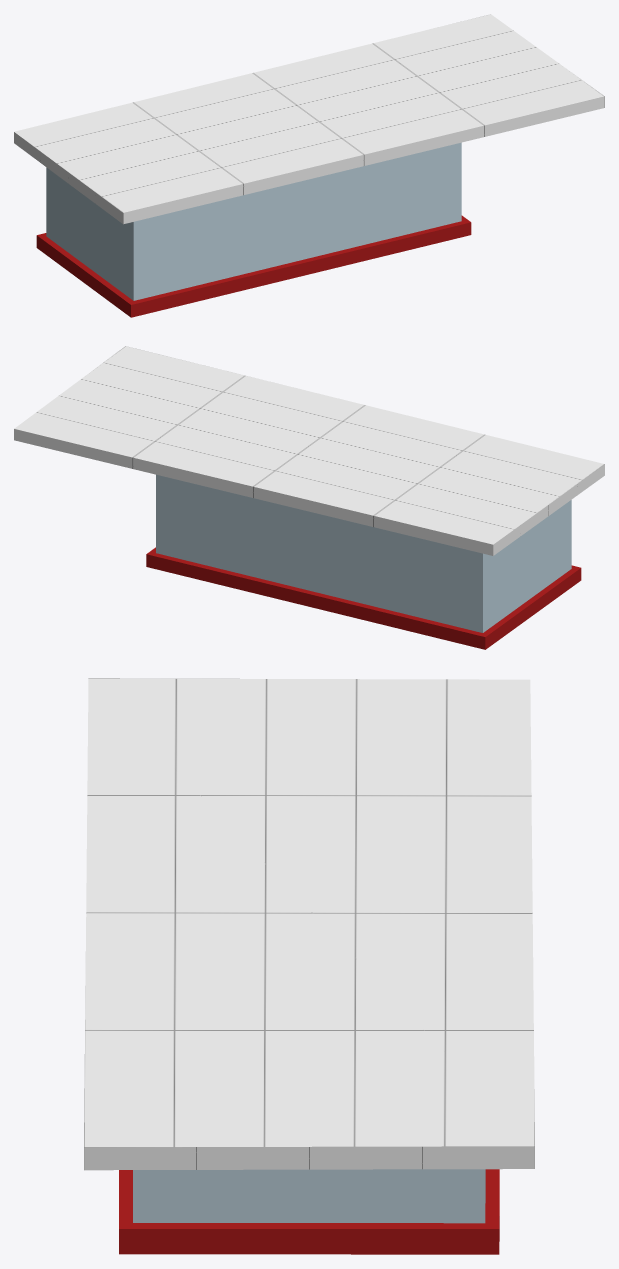
File: SM_SubwayDown_v03.fbx
3 renders of one model, top to bottom at view 1: azimuth 30°, elevation 25°; view 2: azimuth 150°, elevation 25°; view 3: azimuth 270°, elevation 25°, orthographic. The views are drawn at different scales.
Parts seen in each view (by area): view 1: SubwayDown_v03; view 2: SubwayDown_v03; view 3: SubwayDown_v03.
Boxes of the visible parts, left/top/right/bottom form: SubwayDown_v03: left=14, top=14, right=604, bottom=317; SubwayDown_v03: left=14, top=346, right=604, bottom=649; SubwayDown_v03: left=84, top=678, right=534, bottom=1254.
Size of the model in its own units: 14.34 by 3.26 by 5.83.
